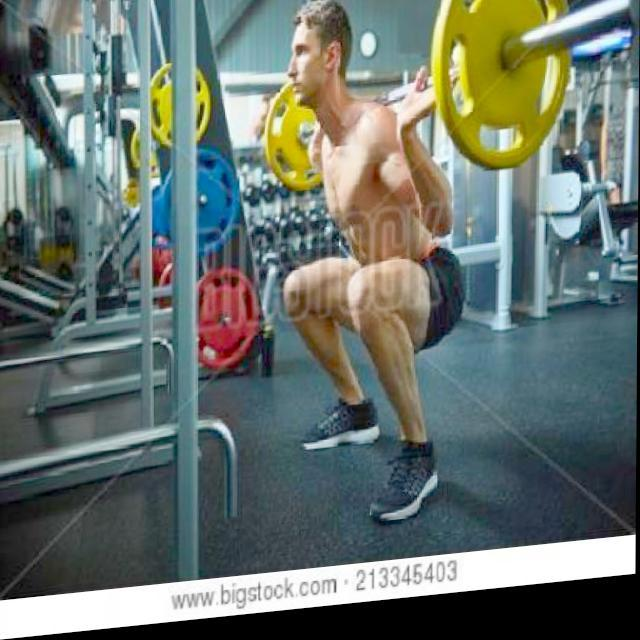barbell: (427, 1, 640, 192)
